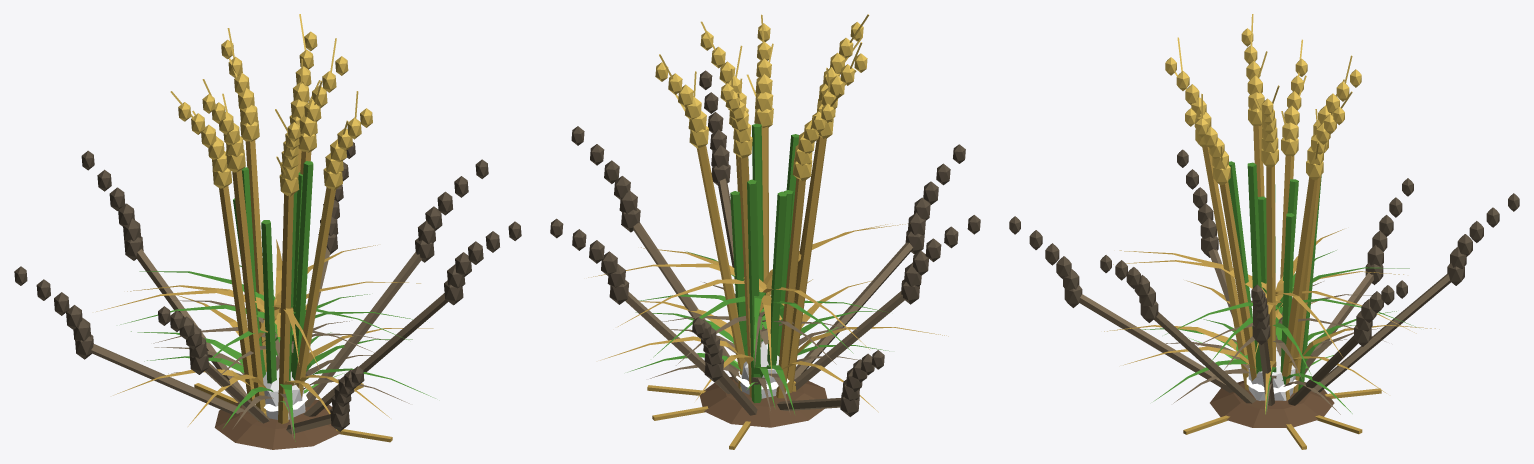
Rendered from plant_grain.glb.
The picture shows the model from 3 angles, left to right: view 1: azimuth 30°, elevation 25°; view 2: azimuth 150°, elevation 25°; view 3: azimuth 270°, elevation 25°; orthographic projection. The views are drawn at different scales.
Visible parts, largest first — view 1: grain_fruited.straw, grain_fruited.grain, grain_dead.dead_dark, grain_dead.dead, grain_plant.leaf, grain_planted.soil_light, grain_planted.pod, grain_harvested.straw; view 2: grain_fruited.straw, grain_dead.dead_dark, grain_plant.leaf, grain_fruited.grain, grain_dead.dead, grain_planted.soil_light, grain_harvested.straw, grain_planted.pod; view 3: grain_fruited.straw, grain_dead.dead_dark, grain_dead.dead, grain_fruited.grain, grain_plant.leaf, grain_planted.soil_light, grain_harvested.straw, grain_planted.pod.
Part boxes in pixels (x1,y1,x2,y2): grain_fruited.straw: [96, 140, 433, 431]; grain_fruited.grain: [170, 14, 372, 196]; grain_dead.dead_dark: [14, 142, 521, 431]; grain_dead.dead: [91, 247, 447, 438]; grain_plant.leaf: [120, 161, 435, 441]; grain_planted.soil_light: [214, 399, 340, 449]; grain_planted.pod: [263, 368, 305, 419]; grain_harvested.straw: [194, 383, 392, 442]; grain_fruited.straw: [588, 126, 948, 412]; grain_dead.dead_dark: [550, 70, 980, 416]; grain_plant.leaf: [627, 123, 889, 413]; grain_fruited.grain: [655, 14, 869, 181]; grain_dead.dead: [625, 178, 912, 415]; grain_planted.soil_light: [699, 376, 827, 427]; grain_harvested.straw: [647, 380, 796, 449]; grain_planted.pod: [740, 341, 786, 398]; grain_fruited.straw: [1104, 125, 1439, 413]; grain_dead.dead_dark: [1009, 149, 1519, 346]; grain_dead.dead: [1079, 249, 1450, 414]; grain_fruited.grain: [1165, 14, 1361, 185]; grain_plant.leaf: [1142, 161, 1416, 414]; grain_planted.soil_light: [1210, 380, 1334, 427]; grain_harvested.straw: [1183, 385, 1381, 449]; grain_planted.pod: [1248, 350, 1295, 400].
Bounding box in the file's own units: 2.46 × 2.3 × 2.95.
